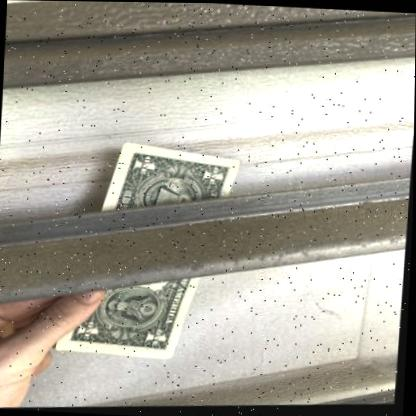one-back: (57, 143, 244, 362)
